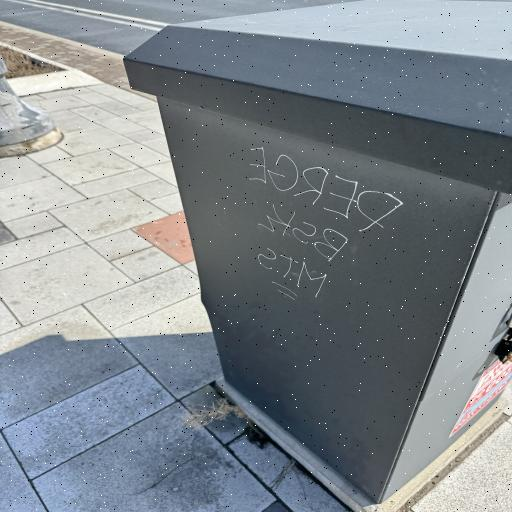Electrical Box: (120, 0, 509, 505)
